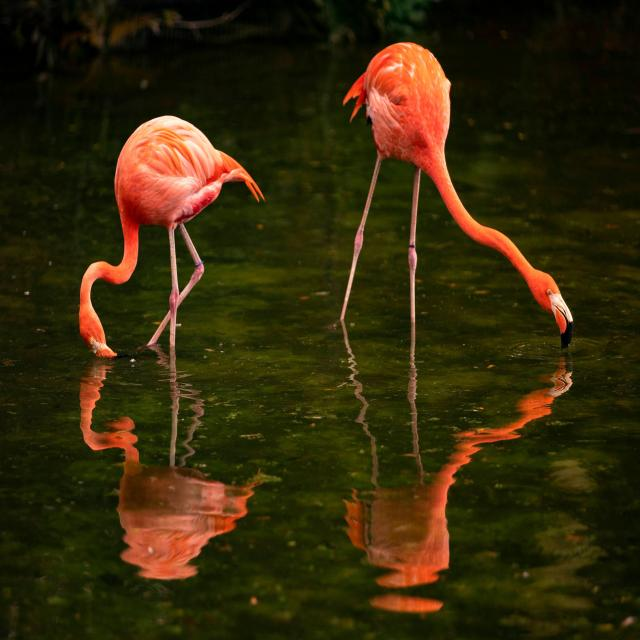Flamingo: (337, 38, 575, 346), (74, 110, 265, 364)
